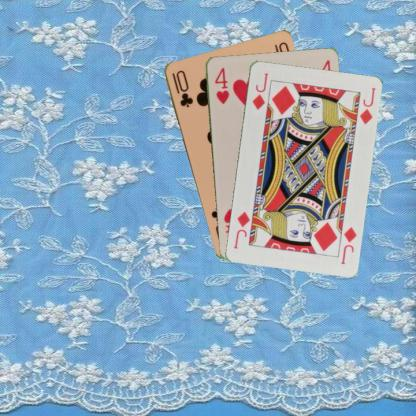10c: (169, 67, 194, 109)
4h: (211, 65, 230, 105)
Jd: (249, 70, 269, 111), (338, 224, 358, 265)
